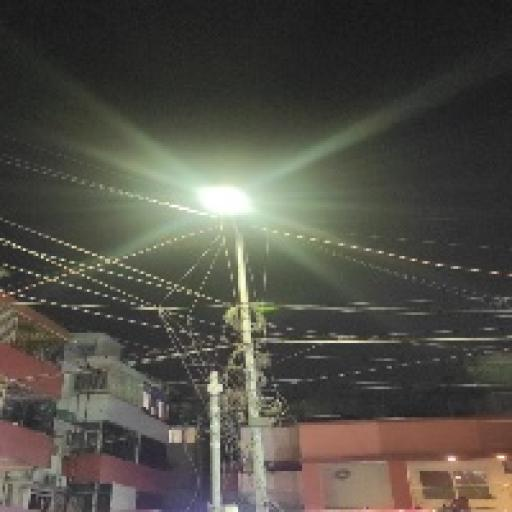Working: (188, 174, 265, 230)
